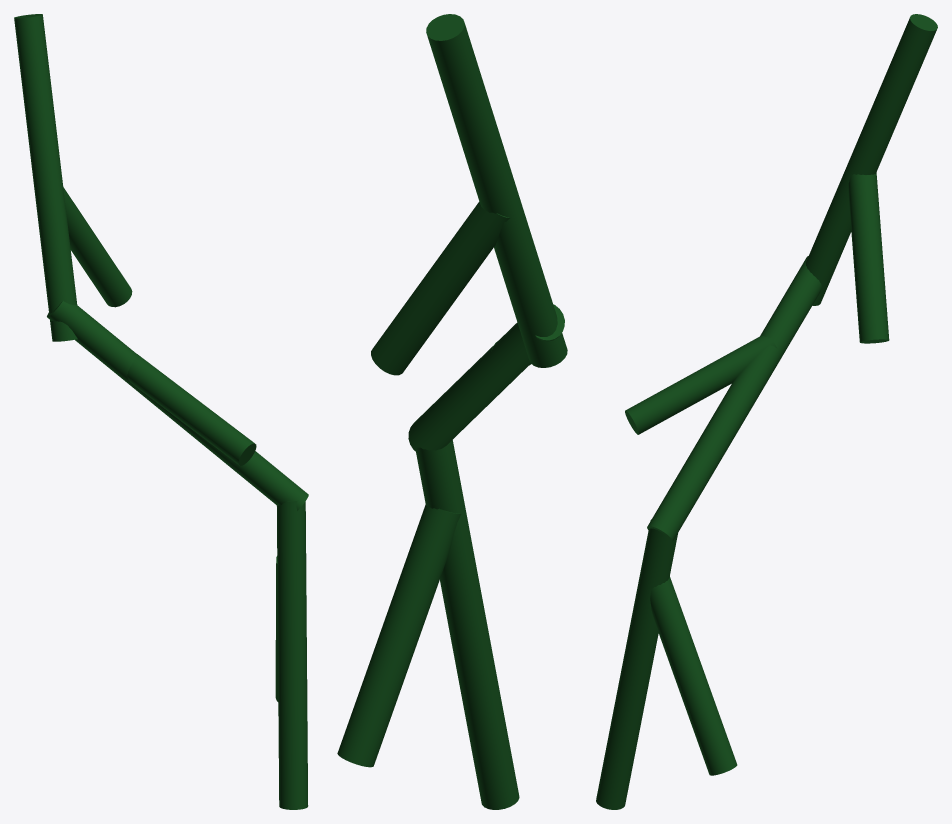
Rendered from VinesAngle2.fbx.
The picture shows the model from 3 angles, left to right: view 1: azimuth 30°, elevation 25°; view 2: azimuth 150°, elevation 25°; view 3: azimuth 270°, elevation 25°; orthographic projection. The views are drawn at different scales.
Visible parts, largest first — view 1: vine1, vine3, vine2, vine5, vine4; view 2: vine1, vine3, vine6, vine4, vine2; view 3: vine2, vine3, vine1, vine6, vine4, vine5.
Part boxes in pixels (x1,y1,x2,y2): vine1: (14, 14, 77, 341); vine3: (276, 501, 308, 809); vine2: (47, 301, 308, 510); vine5: (127, 354, 256, 465); vine4: (63, 187, 132, 307); vine1: (426, 14, 567, 367); vine3: (416, 440, 519, 809); vine6: (337, 505, 461, 767); vine4: (371, 201, 509, 375); vine2: (408, 304, 564, 451); vine2: (647, 256, 821, 541); vine3: (596, 519, 677, 809); vine1: (806, 14, 937, 305); vine6: (650, 576, 737, 775); vine4: (848, 172, 889, 343); vine5: (625, 335, 776, 434).
Bounding box in the file's own units: 1.87 × 6.11 × 2.59.
